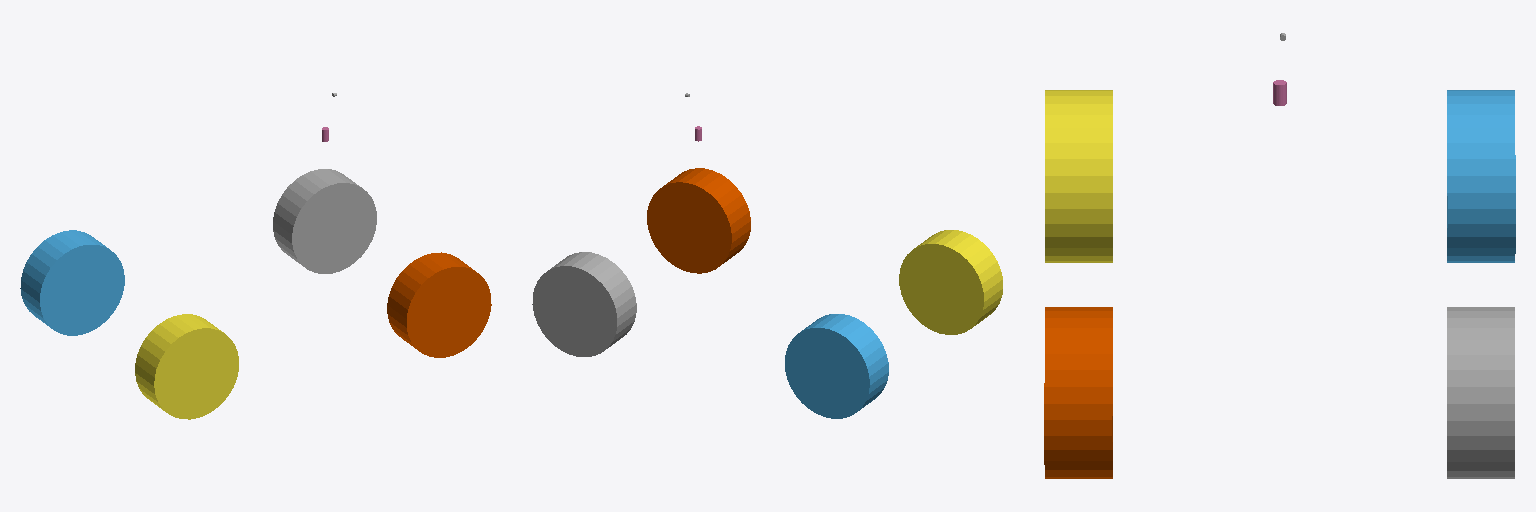
The robot description file, URDF, robot "m2d":
<?xml version="1.0"?>
<robot name="m2d" xmlns:xacro="http://ros.org/wiki/xacro">
  <link name="base_link">
    <visual>
      <origin xyz="0 0 0.0" rpy="1.57 0 -1.57"/>
      <geometry>
        <mesh filename="package://ackerman_pkg/models/M2_P.stl" scale="0.001 0.001 0.001"/>
      </geometry>
    </visual>
    <collision>
      <origin xyz="0 0 0.51" rpy="0 0 0"/>
      <geometry>
        <box size="1.66 0.9 0.55"/>
      </geometry>
    </collision>

    <collision>
      <origin xyz="0 0.375 0" rpy="0 0 0"/>
      <geometry>
        <box size="0.9 0.15 0.25"/>
      </geometry>
    </collision>

    <collision>
      <origin xyz="0 -0.375 0" rpy="0 0 0"/>
      <geometry>
        <box size="0.9 0.15 0.25"/>
      </geometry>
    </collision>

    <collision>
      <origin xyz="-0.82 0 0.025" rpy="0 0 0"/>
      <geometry>
        <box size="0.535 0.45 0.3"/>
      </geometry>
    </collision>

    <collision>
      <origin xyz="0.82 0 0.025" rpy="0 0 0"/>
      <geometry>
        <box size="0.535 0.45 0.3"/>
      </geometry>
    </collision>
  </link>

  <link name="MPU-9250">
  </link>
<!-- 
  <link name="map">
  </link>

  <joint name="map_base_link" type="fixed">
    <parent link="map"/>
    <child link="base_link"/>
    <origin xyz="0.0 0.0 0.0" rpy="0.0 0.0 0.0"/>
  </joint> -->

    
  <link name="imu"/>

  <joint name="base_link_imu_joint" type="fixed">
    <parent link="base_link"/>
    <child link="imu"/>
    <origin xyz="0.525 0 0.43" rpy="0 0 0"/>
  </joint>

  <joint name="base_link_MPU-9250_joint" type="fixed">
    <parent link="imu"/>
    <child link="MPU-9250"/>
    <origin xyz="0 0 0" rpy="0 0 0"/>
  </joint>
  <link name="MPU-9250 compass">
  </link>
  <joint name="MPU-9250_MPU-9250 compass_joint" type="fixed">
    <parent link="MPU-9250"/>
    <child link="MPU-9250 compass"/>
    <origin xyz="0 0 0" rpy="0 0 0"/>
  </joint>
  <link name="MPU-9250 gyro">
  </link>
  <joint name="MPU-9250_MPU-9250 gyro_joint" type="fixed">
    <parent link="MPU-9250"/>
    <child link="MPU-9250 gyro"/>
    <origin xyz="0 0 0" rpy="0 0 0"/>
  </joint>
  <link name="MPU-9250 accelerometer">
  </link>
  <joint name="MPU-9250_MPU-9250 accelerometer_joint" type="fixed">
    <parent link="MPU-9250"/>
    <child link="MPU-9250 accelerometer"/>
    <origin xyz="0 0 0" rpy="0 0 0"/>
  </joint>


  <link name="lidar">
    <visual>
      <origin xyz="0 0 -0.005" rpy="0 0 0"/>
      <geometry>
        <cylinder radius="0.02" length="0.07"/>
      </geometry>
    </visual>
    <collision>
      <origin xyz="0 0 -0.005" rpy="0 0 0"/>
      <geometry>
        <cylinder radius="0.02" length="0.07"/>
      </geometry>
    </collision>
  </link>
  <joint name="base_link_lidar_joint" type="fixed">
    <parent link="base_link"/>
    <child link="lidar"/>
    <origin xyz="0.425 0 0.84" rpy="0 0 0"/>
  </joint>
  <link name="Front_Camera">
    <visual>
      <origin xyz="-0.01 0 0" rpy="0 0 0"/>
      <geometry>
        <cylinder radius="0.01" length="0.02"/>
      </geometry>
    </visual>
    <collision>
      <origin xyz="-0.01 0 0" rpy="0 0 0"/>
      <geometry>
        <cylinder radius="0.01" length="0.02"/>
      </geometry>
    </collision>
  </link>
  <joint name="base_link_Front_Camera_joint" type="fixed">
    <parent link="base_link"/>
    <child link="Front_Camera"/>
    <origin xyz="0.48632 0 1.04663" rpy="-1.570796 0.3927 -1.570796"/>
  </joint>
  <joint name="steering_motor_bl" type="revolute">
    <parent link="base_link"/>
    <child link="back left wheel"/>
    <axis xyz="0 0 1"/>
    <limit effort="200" lower="-0.5" upper="0.5" velocity="0.4"/>
    <origin xyz="-0.7725 0.607 0" rpy="0 0 1.571813"/>
  </joint>
  <link name="back left wheel">
    <visual>
      <origin xyz="0 0 0" rpy="3.141593 -1.570793 3.141593"/>
      <geometry>
        <cylinder radius="0.05" length="0.1"/>
      </geometry>
    </visual>
    <collision>
      <origin xyz="0 0 0" rpy="3.141593 -1.570793 3.141593"/>
      <geometry>
        <cylinder radius="0.05" length="0.1"/>
      </geometry>
    </collision>
  </link>
  <joint name="drive_motor_bl" type="continuous">
    <parent link="back left wheel"/>
    <child link="back left wheel_0"/>
    <axis xyz="1 0 0"/>
    <limit effort="250" velocity="27"/>
    <origin xyz="0 0 0" rpy="0.146793 0 0"/>
  </joint>
  <link name="back left wheel_0">
    <visual>
      <origin xyz="0 0 0" rpy="0 1.570796 0"/>
      <geometry>
        <cylinder radius="0.261" length="0.205"/>
      </geometry>
    </visual>
    <collision>
      <origin xyz="0 0 0" rpy="0 1.570796 0"/>
      <geometry>
        <cylinder radius="0.261" length="0.205"/>
      </geometry>
    </collision>
  </link>
  <joint name="steering_motor_br" type="revolute">
    <parent link="base_link"/>
    <child link="back right wheel"/>
    <axis xyz="0 -0.000141 1"/>
    <limit effort="200" lower="-0.5" upper="0.5" velocity="0.4"/>
    <origin xyz="-0.7725 -0.607 0" rpy="-0.000141 0 1.570776"/>
  </joint>
  <link name="back right wheel">
    <visual>
      <origin xyz="0 0 0" rpy="3.141593 -1.570793 3.141593"/>
      <geometry>
        <cylinder radius="0.05" length="0.1"/>
      </geometry>
    </visual>
    <collision>
      <origin xyz="0 0 0" rpy="3.141593 -1.570793 3.141593"/>
      <geometry>
        <cylinder radius="0.05" length="0.1"/>
      </geometry>
    </collision>
  </link>
  <joint name="drive_motor_br" type="continuous">
    <parent link="back right wheel"/>
    <child link="back right wheel_1"/>
    <axis xyz="1 0 0"/>
    <limit effort="250" velocity="27"/>
    <origin xyz="0 0 0" rpy="0.144756 0 0"/>
  </joint>
  <link name="back right wheel_1">
    <visual>
      <origin xyz="0 0 0" rpy="0 1.570796 0"/>
      <geometry>
        <cylinder radius="0.261" length="0.205"/>
      </geometry>
    </visual>
    <collision>
      <origin xyz="0 0 0" rpy="0 1.570796 0"/>
      <geometry>
        <cylinder radius="0.261" length="0.205"/>
      </geometry>
    </collision>
  </link>
  <joint name="steering_motor_fr" type="revolute">
    <parent link="base_link"/>
    <child link="front right wheel"/>
    <axis xyz="0 0 1"/>
    <limit effort="200" lower="-0.5" upper="0.5" velocity="0.4"/>
    <origin xyz="0.7725 -0.607 0" rpy="0 0 1.569235"/>
  </joint>
  <link name="front right wheel">
    <visual>
      <origin xyz="0 0 0" rpy="3.141593 -1.570793 3.141593"/>
      <geometry>
        <cylinder radius="0.05" length="0.1"/>
      </geometry>
    </visual>
    <collision>
      <origin xyz="0 0 0" rpy="3.141593 -1.570793 3.141593"/>
      <geometry>
        <cylinder radius="0.05" length="0.1"/>
      </geometry>
    </collision>
  </link>
  <joint name="drive_motor_fr" type="continuous">
    <parent link="front right wheel"/>
    <child link="front right wheel_2"/>
    <axis xyz="1 0 0"/>
    <limit effort="200" velocity="27"/>
    <origin xyz="0 0 0" rpy="0.67099 0 0"/>
  </joint>
  <link name="front right wheel_2">
    <visual>
      <origin xyz="0 0 0" rpy="0 1.570796 0"/>
      <geometry>
        <cylinder radius="0.261" length="0.205"/>
      </geometry>
    </visual>
    <collision>
      <origin xyz="0 0 0" rpy="0 1.570796 0"/>
      <geometry>
        <cylinder radius="0.261" length="0.205"/>
      </geometry>
    </collision>
  </link>
  <joint name="steering_motor_fl" type="revolute">
    <parent link="base_link"/>
    <child link="front left wheel"/>
    <axis xyz="0 0 1"/>
    <limit effort="200" lower="-0.5" upper="0.5" velocity="0.4"/>
    <origin xyz="0.7725 0.607 0" rpy="0 0 -1.570385"/>
  </joint>
  <link name="front left wheel">
    <visual>
      <origin xyz="0 0 0" rpy="3.141593 -1.570793 3.141593"/>
      <geometry>
        <cylinder radius="0.05" length="0.1"/>
      </geometry>
    </visual>
    <collision>
      <origin xyz="0 0 0" rpy="3.141593 -1.570793 3.141593"/>
      <geometry>
        <cylinder radius="0.05" length="0.1"/>
      </geometry>
    </collision>
  </link>
  <joint name="drive_motor_fl" type="continuous">
    <parent link="front left wheel"/>
    <child link="front left wheel_3"/>
    <axis xyz="-1 0 0"/>
    <limit effort="200" velocity="27"/>
    <origin xyz="0 0 0" rpy="-0.673929 0 0"/>
  </joint>
  <link name="front left wheel_3">
    <visual>
      <origin xyz="0 0 0" rpy="0 1.570796 0"/>
      <geometry>
        <cylinder radius="0.261" length="0.205"/>
      </geometry>
    </visual>
    <collision>
      <origin xyz="0 0 0" rpy="0 1.570796 0"/>
      <geometry>
        <cylinder radius="0.261" length="0.205"/>
      </geometry>
    </collision>
  </link>
</robot>

--- Render facts (derived) ---
Views: 3 orthographic renders of the robot side by side, from view 1: azimuth 30°, elevation 25°; view 2: azimuth 150°, elevation 25°; view 3: azimuth 270°, elevation 25°.
Model m2d with 16 links and 15 joints (4 revolute, 4 continuous, 7 fixed), rooted at base_link, posed every joint at zero.
Links seen in each view (by area): view 1: back left wheel_0, back right wheel_1, front right wheel_2, front left wheel_3; view 2: back right wheel_1, back left wheel_0, front left wheel_3, front right wheel_2; view 3: back left wheel_0, front right wheel_2, back right wheel_1, front left wheel_3.
Boxes of the visible links, x1,y1,x2,y2 form: back left wheel_0: (20,230,124,335); back right wheel_1: (135,314,238,419); front right wheel_2: (387,252,491,357); front left wheel_3: (273,169,376,273); back right wheel_1: (899,230,1002,334); back left wheel_0: (785,314,888,418); front left wheel_3: (532,252,636,356); front right wheel_2: (647,168,750,273); back left wheel_0: (1447,90,1515,262); front right wheel_2: (1044,307,1112,478); back right wheel_1: (1045,90,1112,262); front left wheel_3: (1447,307,1514,478).
Size in the robot's own frame: 2.07 by 1.42 by 1.32 metres.
0 mesh visuals loaded from 1 distinct referenced files (none loaded); not drawn: 1 (reference not matched to a file when rendering).
